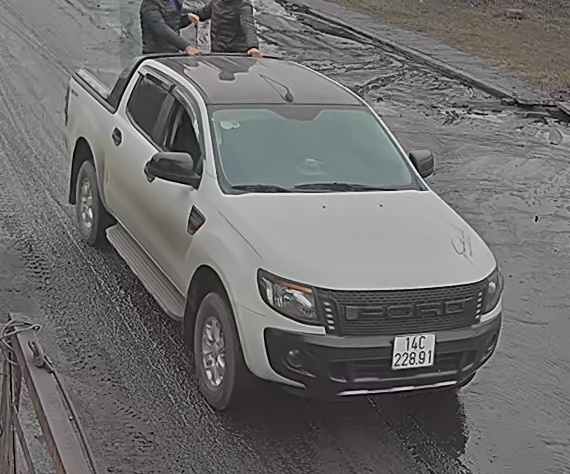vehicle plate: (390, 330, 434, 376)
